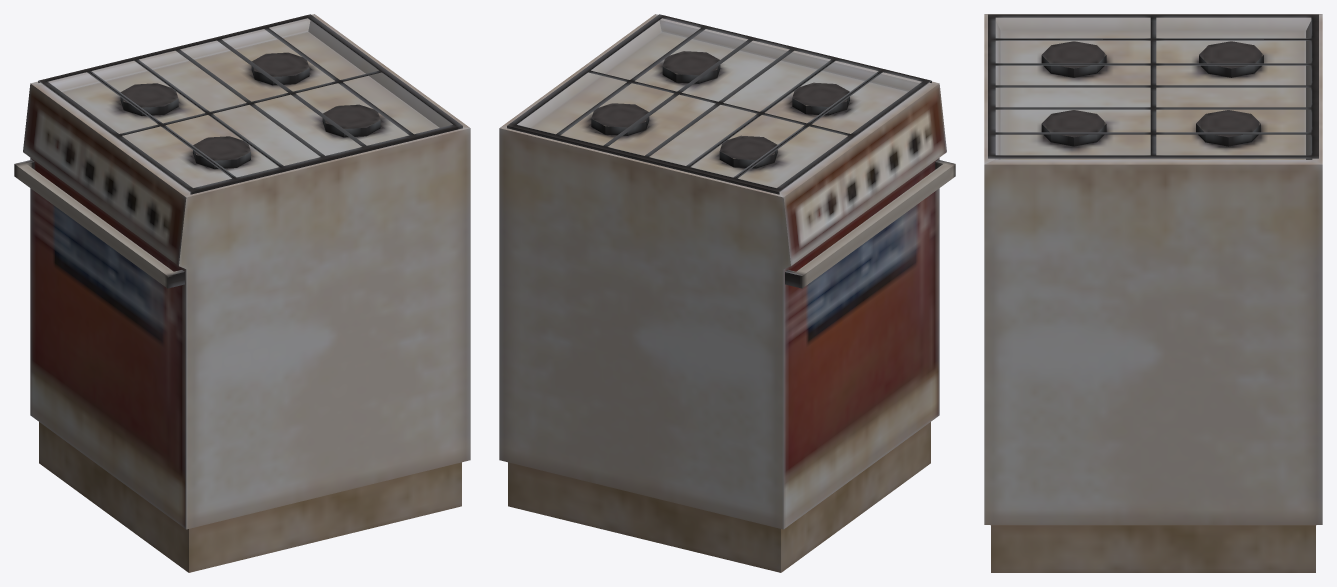
The model's file is stove.glb.
3 renders of one model, left to right at view 1: azimuth 30°, elevation 25°; view 2: azimuth 150°, elevation 25°; view 3: azimuth 270°, elevation 25°, orthographic. The views are drawn at different scales.
Visible parts, largest first — view 1: Plane; view 2: Plane; view 3: Plane.
Boxes of the visible parts, <box> form: Plane: <box>14,14,470,572</box>; Plane: <box>499,14,955,572</box>; Plane: <box>984,14,1322,572</box>.
Bounding box in the file's own units: 0.5505 × 0.6655 × 0.4932.
1 material, 1 textured.
